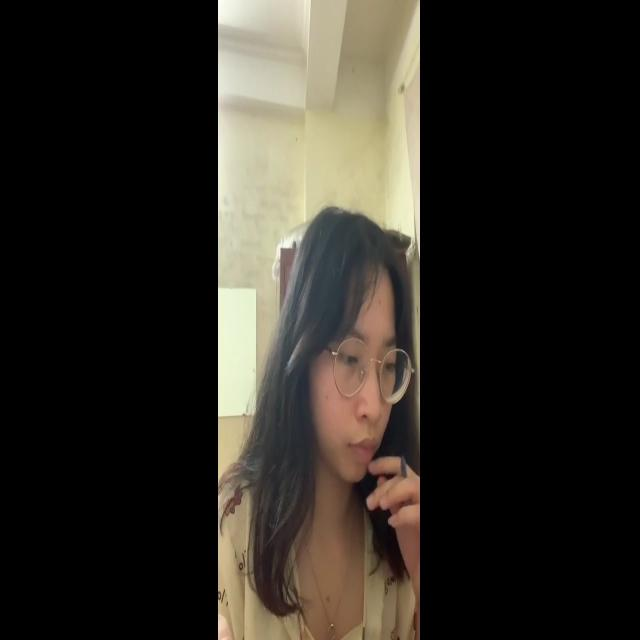student: (261, 210, 413, 640)
